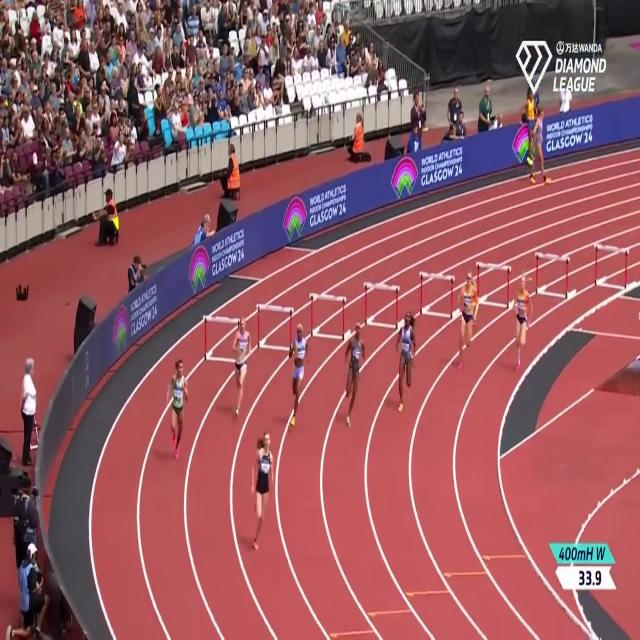athlete: (248, 420, 278, 557), (340, 311, 366, 435), (286, 315, 312, 431), (393, 307, 420, 416), (510, 271, 534, 375), (456, 269, 479, 374), (168, 349, 188, 460), (230, 317, 250, 422)
hurdle: (254, 296, 294, 360), (200, 311, 243, 369), (308, 286, 348, 346), (362, 277, 401, 336), (474, 255, 513, 313), (416, 269, 456, 323), (593, 240, 629, 296), (532, 248, 568, 303)
